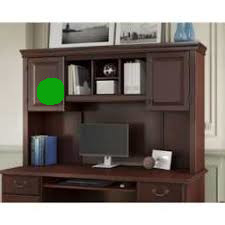focus: (34, 76, 70, 107)
